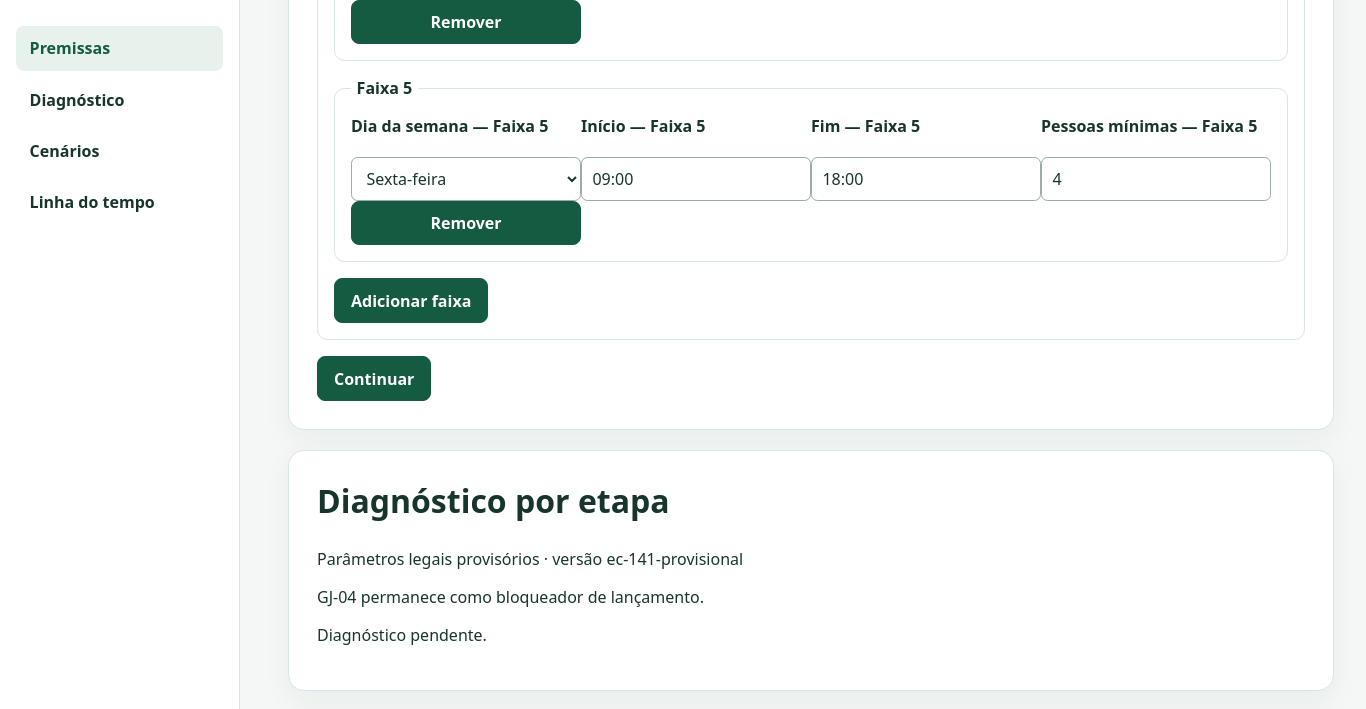
diagnostic dashboard › shows domain validation errors for invalid scenario financial assumptions
(page scrolled)
Click the button "Continuar" at (374, 378), box [317, 356, 431, 401]
(page scrolled)
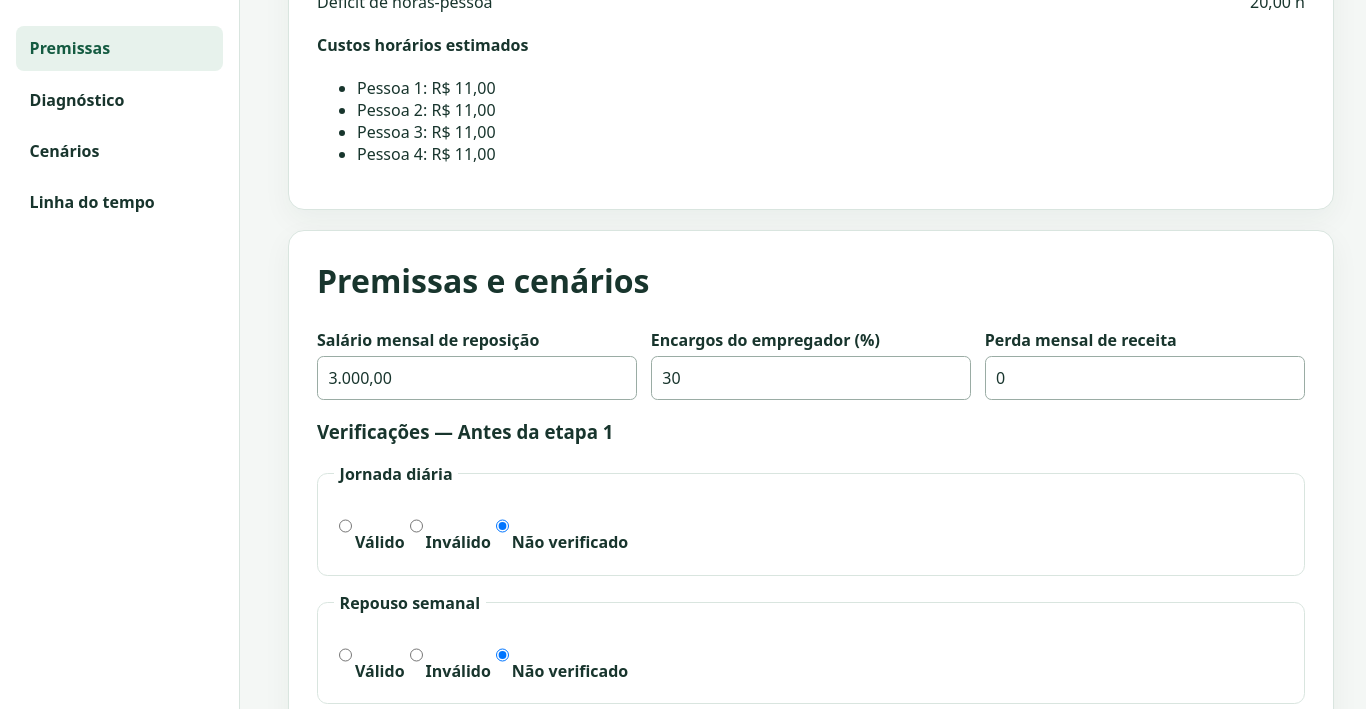
Replace the text in the field labelled "Salário mensal de reposição" with "0" at (477, 378), box [317, 356, 637, 400]
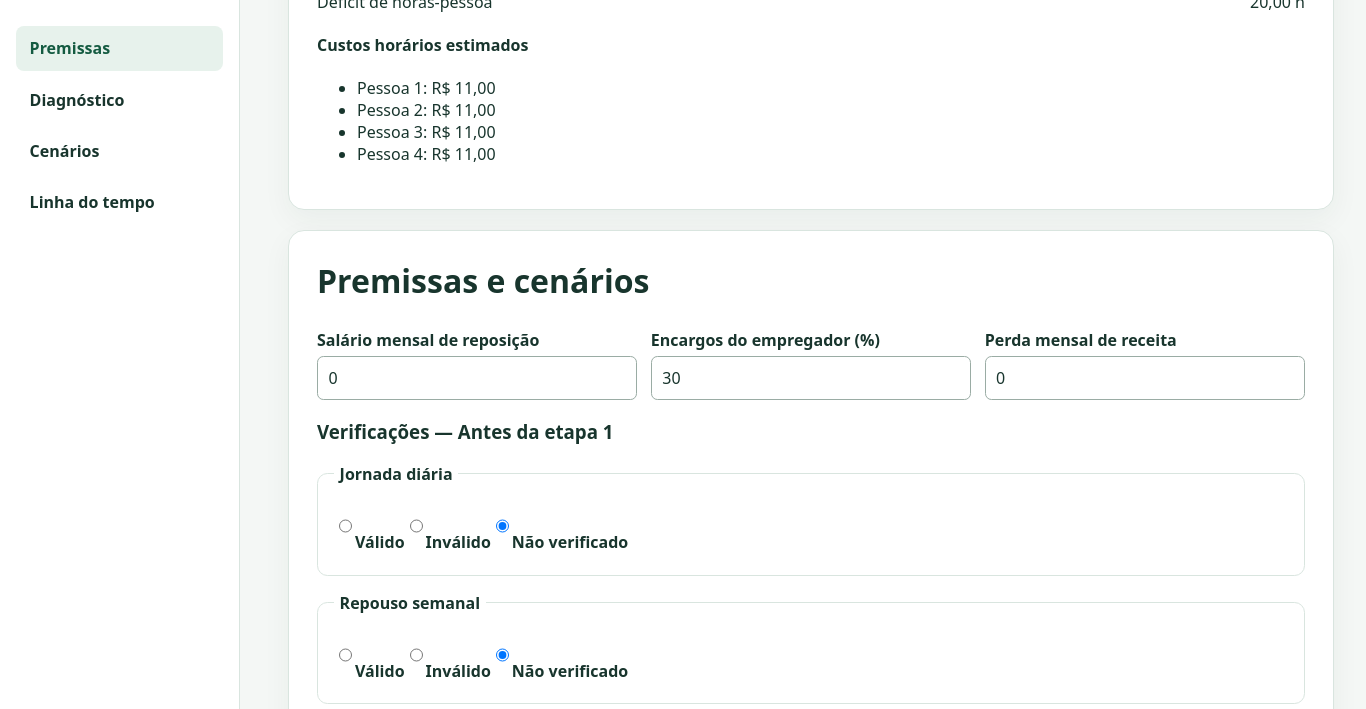
Replace the text in the field labelled "Encargos do empregador (%)" with "-10" at (811, 378), box [651, 356, 971, 400]
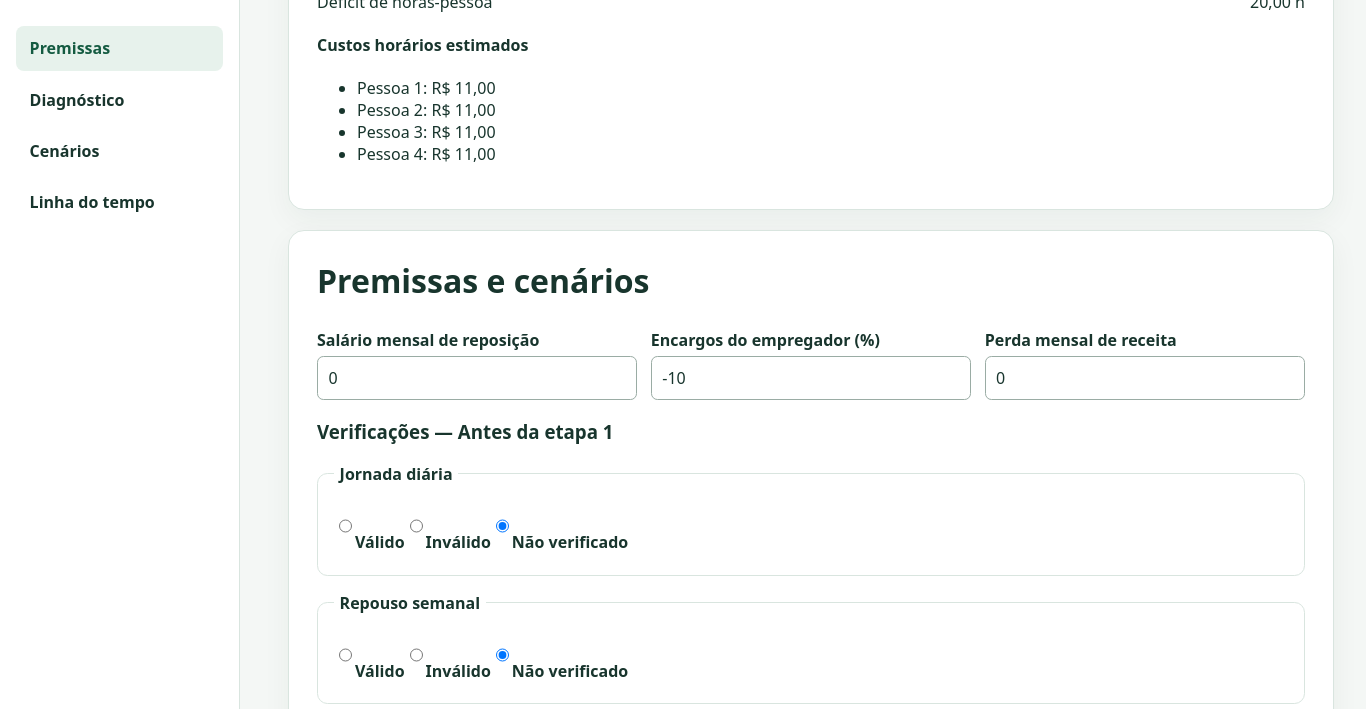
Replace the text in the field labelled "Perda mensal de receita" with "-1" at (1145, 378), box [985, 356, 1305, 400]
(page scrolled)
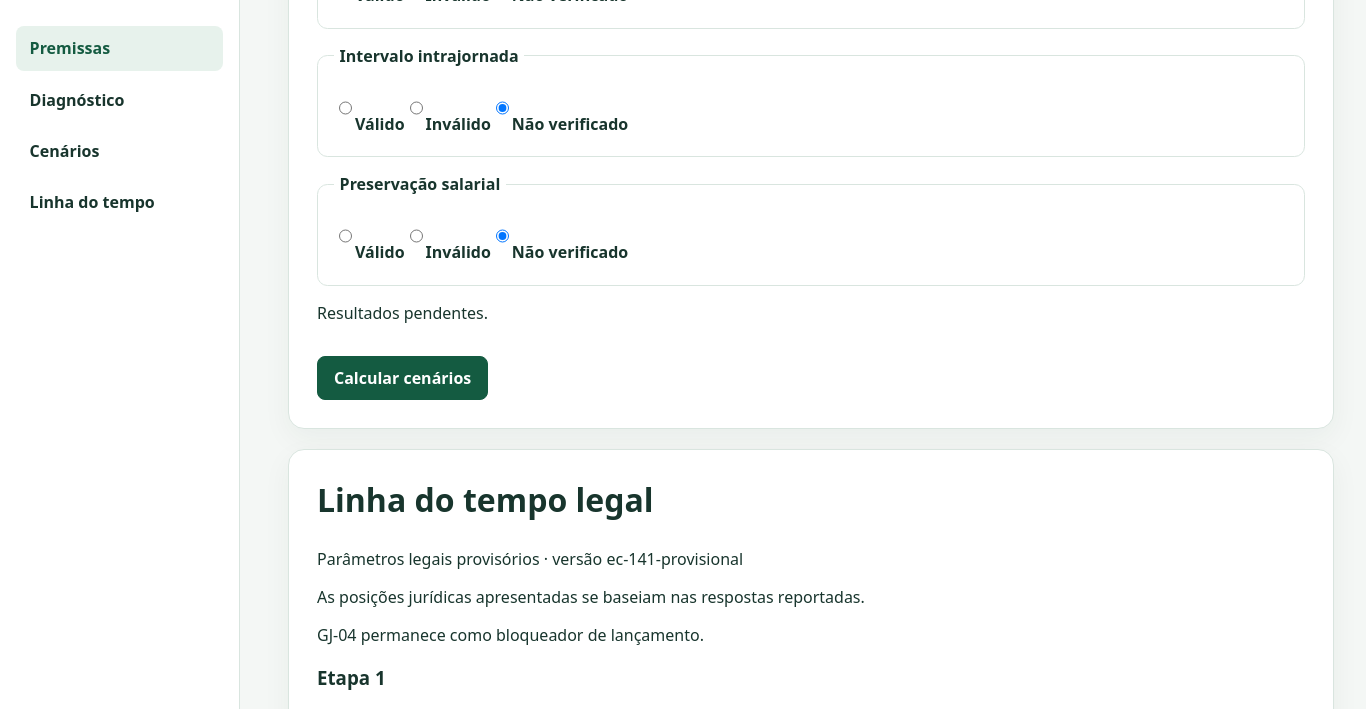
Click the button "Calcular cenários" at (403, 378), box [317, 356, 488, 400]
(page scrolled)
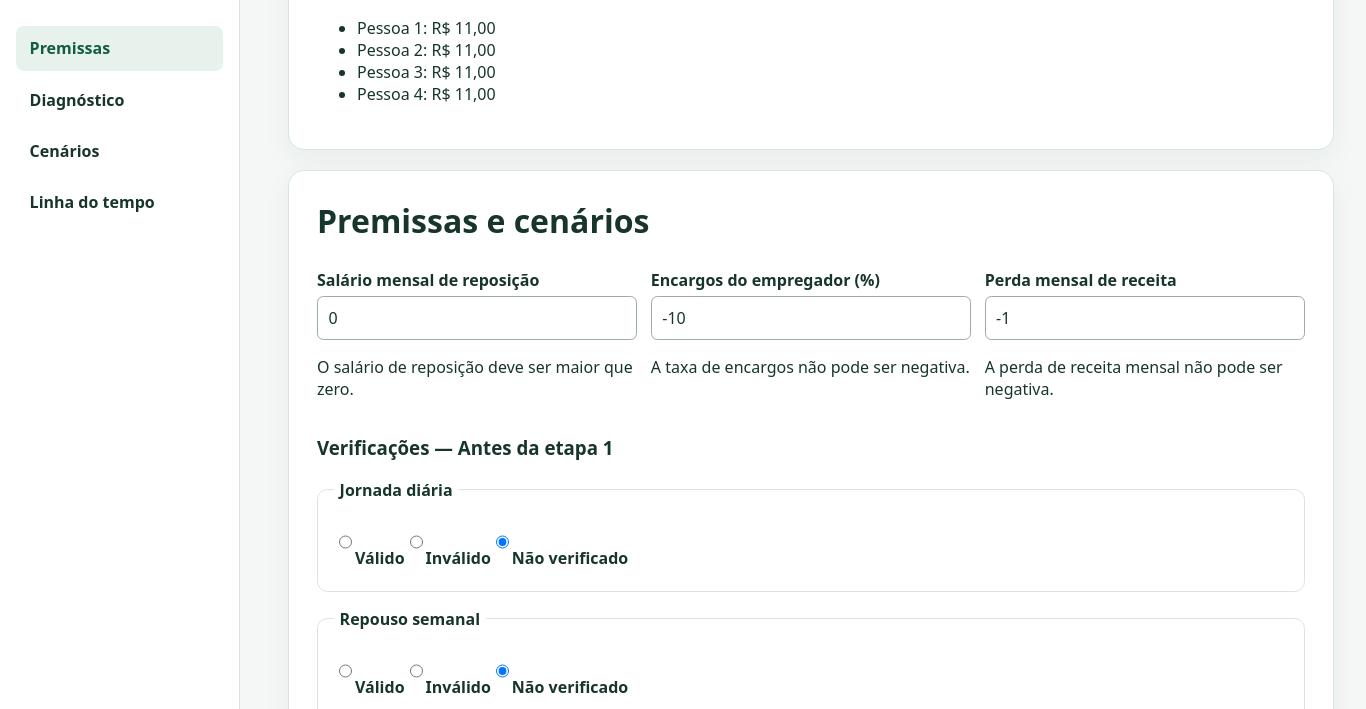
Expected: the text "O salário de reposição deve ser maior que zero." is shown, [317, 356, 637, 400]
Expected: the text "A taxa de encargos não pode ser negativa." is shown, [651, 356, 971, 378]
Expected: the text "A perda de receita mensal não pode ser negativa." is shown, [985, 356, 1305, 400]
